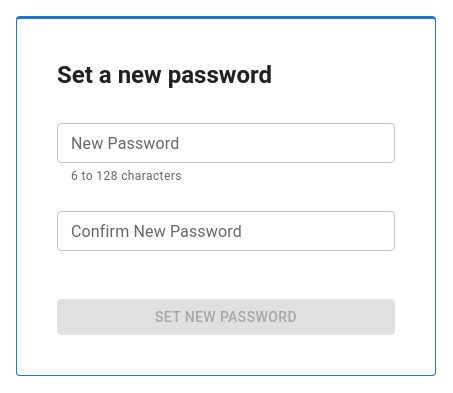
reset de senha (N02) › aba que fez o reset sai da conta e avisa as outras pelo storage
This screenshot has width=453, height=393.
Type "senha-nova-123" into the password field labelled "New Password" at (226, 143), box [57,123,395,163]
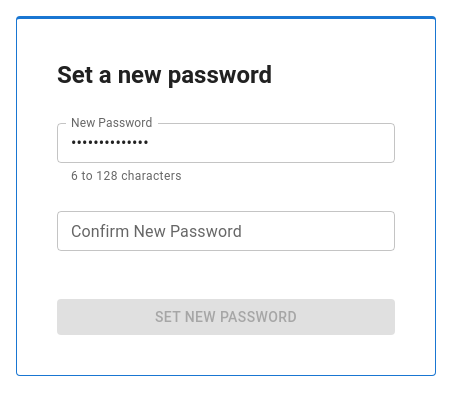
Type "senha-nova-123" into the password field labelled "Confirm New Password" at (226, 231), box [57,211,395,251]
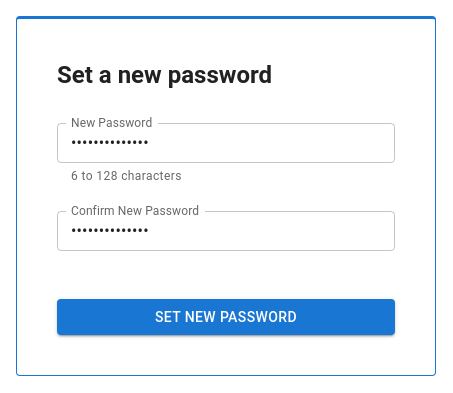
Click the button "Set New Password" at (226, 317), box [57,299,395,335]
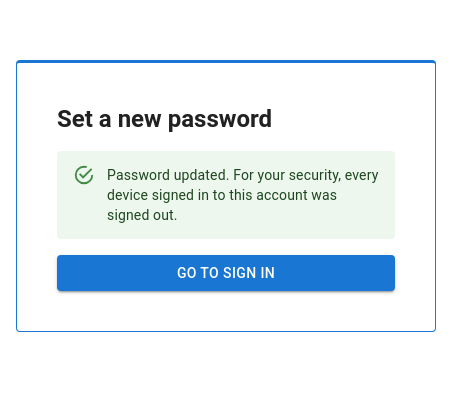
Result: the text "every device signed in" is shown at [107,167,378,223]
